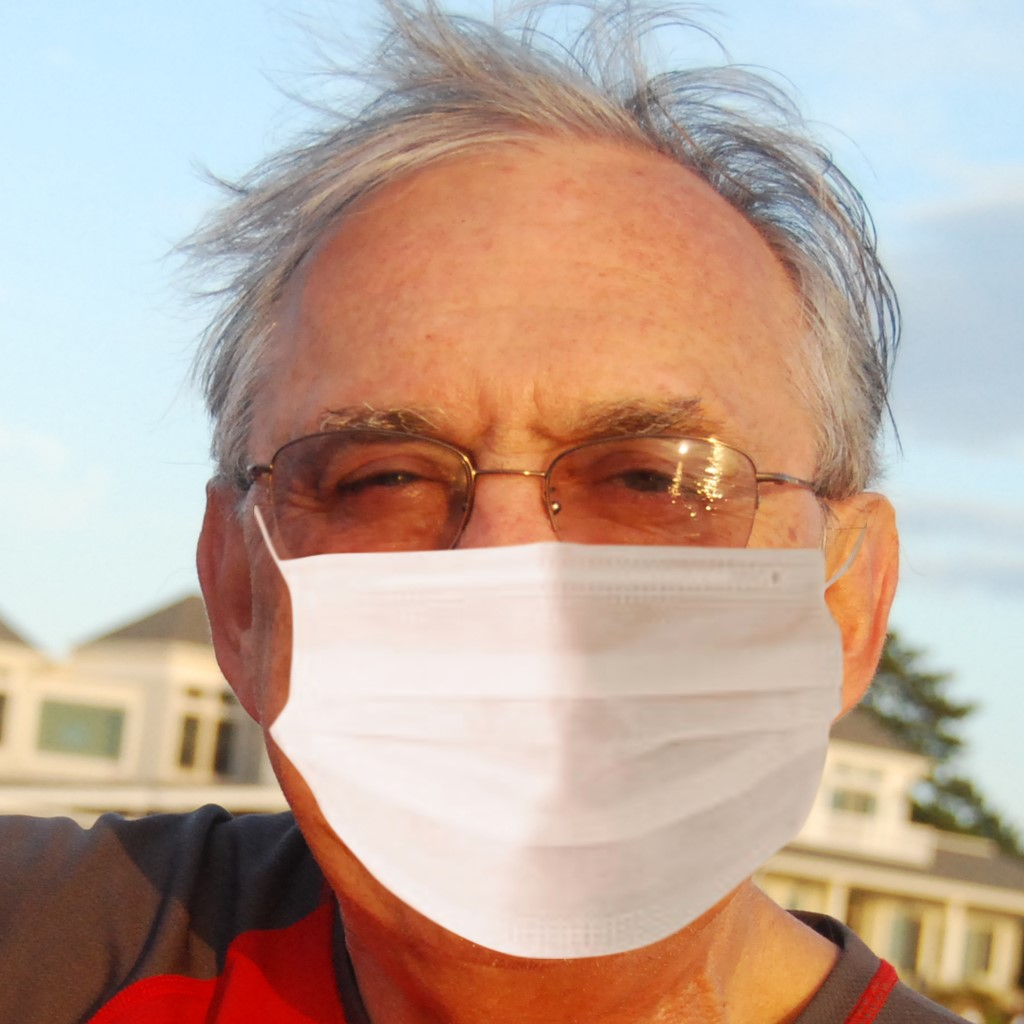con_mascara: (222, 138, 881, 977)
